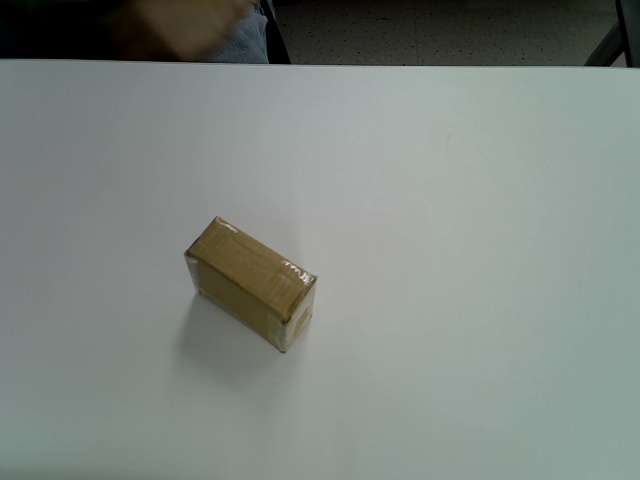normal: (184, 216, 318, 354)
